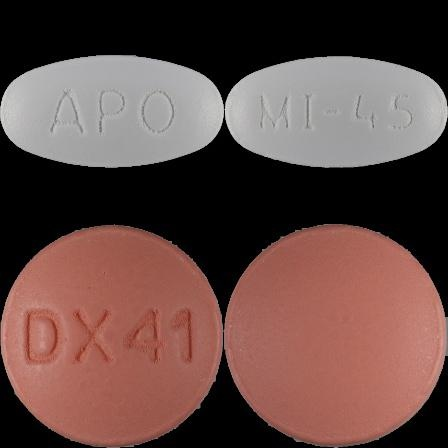63187-471: (0, 0, 224, 224)
